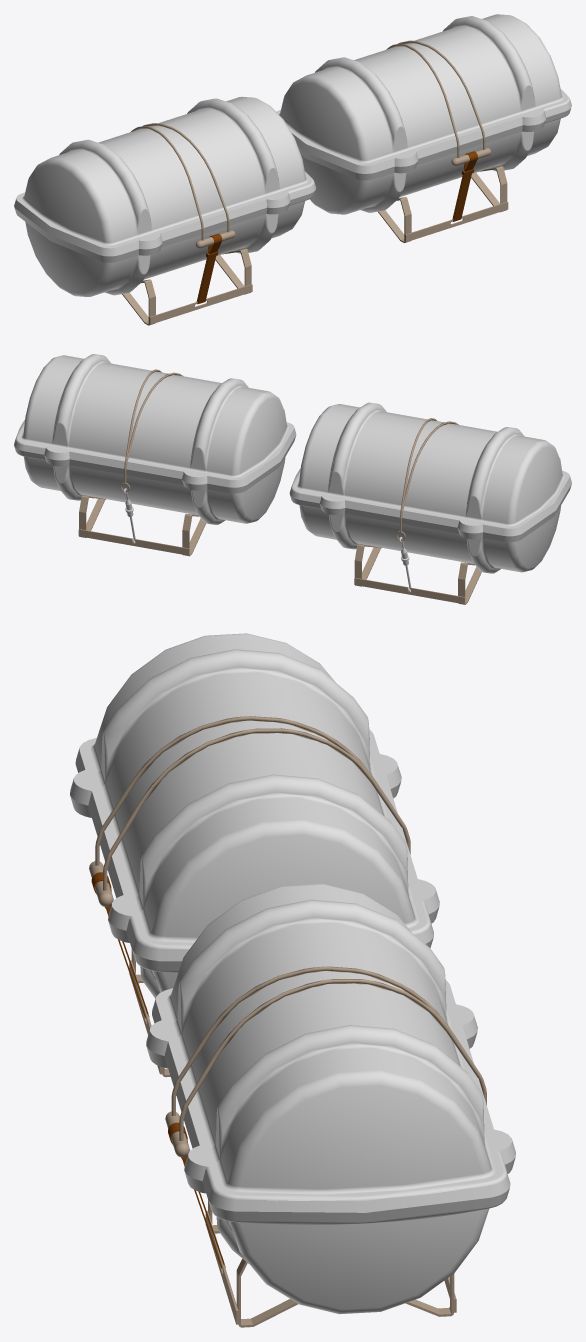
3 renders of one model, top to bottom at view 1: azimuth 30°, elevation 25°; view 2: azimuth 150°, elevation 25°; view 3: azimuth 270°, elevation 25°, orthographic. The views are drawn at different scales.
Parts seen in each view (by area): view 1: NAUO31; view 2: NAUO31; view 3: NAUO31.
Part boxes in pixels (x1=…): NAUO31: x1=14, y1=14, x2=571, y2=325; NAUO31: x1=14, y1=354, x2=571, y2=604; NAUO31: x1=70, y1=633, x2=515, y2=1327.
Size of the model in its own units: 3.79 by 1.14 by 1.49.
